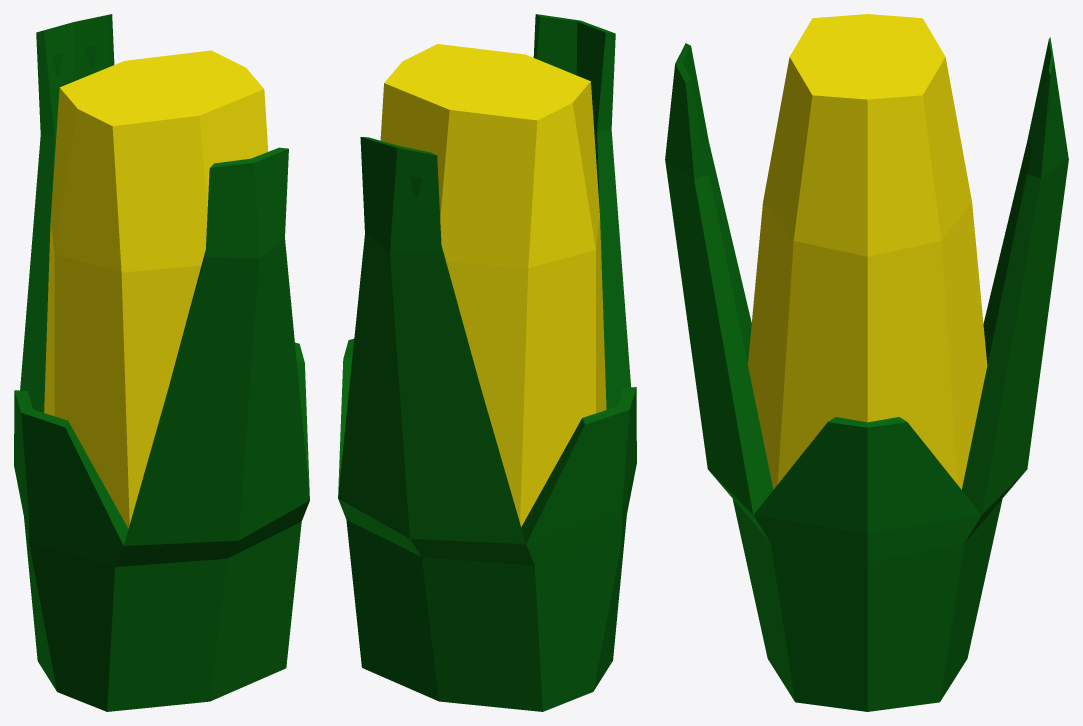
File: jagung.gltf
The picture shows the model from 3 angles, left to right: view 1: azimuth 30°, elevation 25°; view 2: azimuth 150°, elevation 25°; view 3: azimuth 270°, elevation 25°; orthographic projection. The views are drawn at different scales.
Visible parts, largest first — view 1: Jagung; view 2: Jagung; view 3: Jagung.
Boxes of the visible parts, x1,y1,x2,y2 form: Jagung: (14, 14, 309, 711); Jagung: (338, 14, 636, 711); Jagung: (665, 14, 1068, 711).
Bounding box in the file's own units: 0.7781 × 1.55 × 0.9388.
